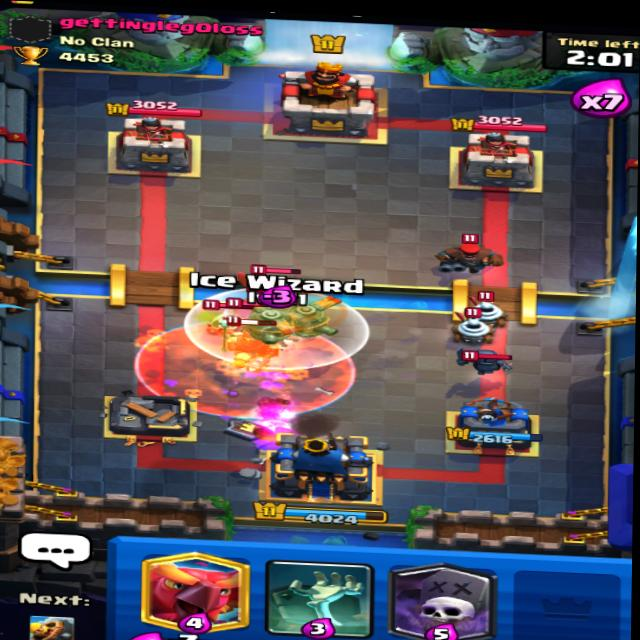Darkprince: (216, 319, 284, 381)
Flyingmachine: (258, 280, 335, 343)
Infernodragon: (245, 260, 312, 320)
Minipekka: (459, 339, 516, 373)
Zappies: (442, 300, 501, 339), (451, 293, 512, 325)
hunter: (433, 223, 501, 277)
